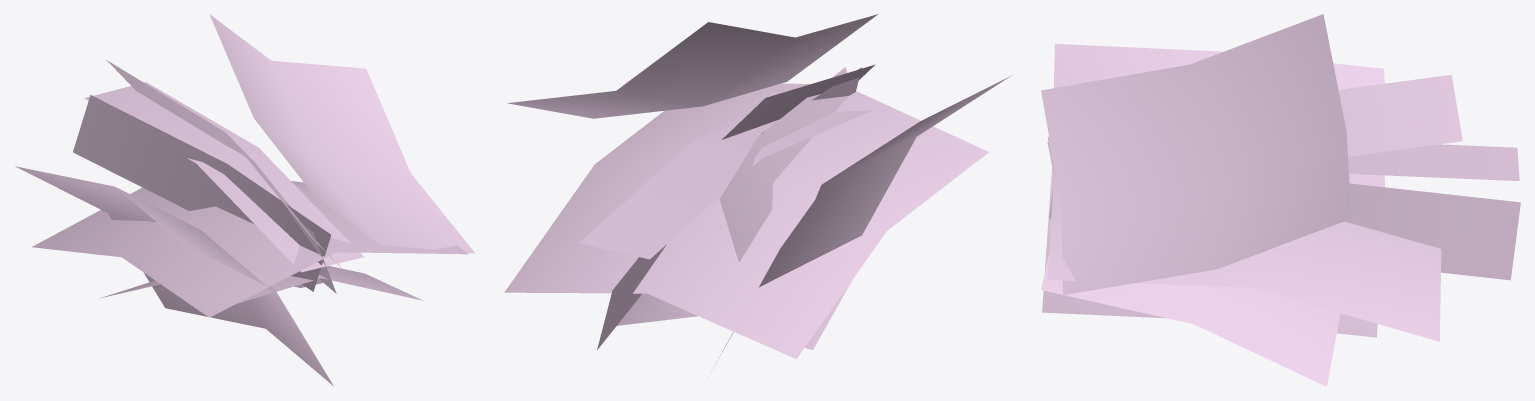
The picture shows the model from 3 angles, left to right: view 1: azimuth 30°, elevation 25°; view 2: azimuth 150°, elevation 25°; view 3: azimuth 270°, elevation 25°; orthographic projection. The views are drawn at different scales.
Visible parts, largest first — view 1: Object69; view 2: Object69; view 3: Object69.
Part boxes in pixels (x1,y1,x2,y2): Object69: (15,14,475,386); Object69: (504,14,1011,360); Object69: (1041,14,1520,386).
Size of the model in its own units: 12127 by 10581 by 13779.
